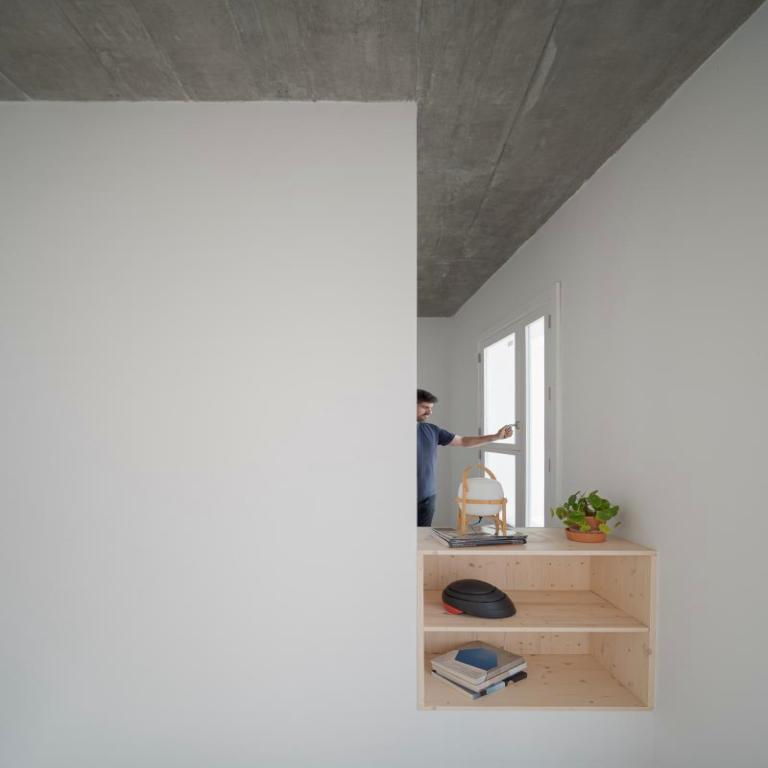white-walls: (12, 42, 747, 761)
